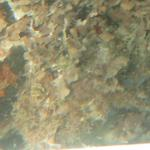alive: (5, 1, 147, 146)
